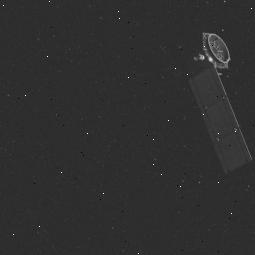earth_observation_sat_1: (168, 27, 253, 176)
